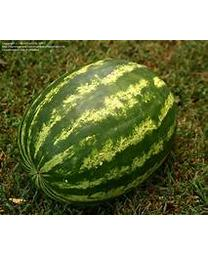watermelon: (16, 58, 176, 206)
